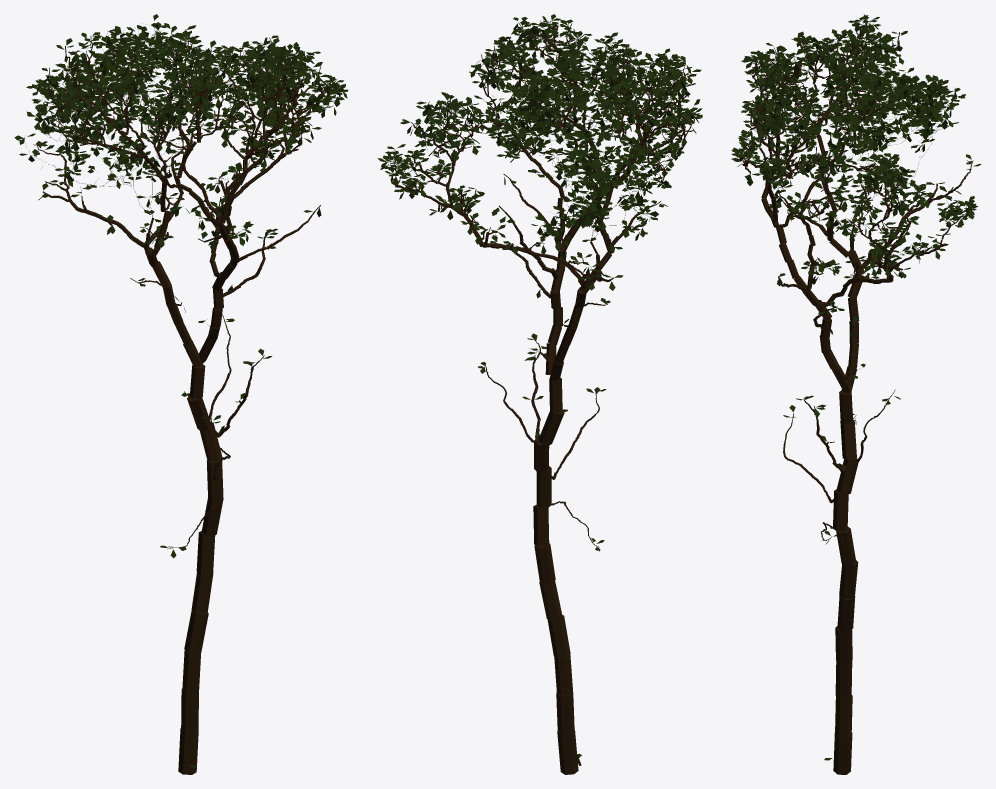
Rendered from tree_19.obj.
The picture shows the model from 3 angles, left to right: view 1: azimuth 30°, elevation 25°; view 2: azimuth 150°, elevation 25°; view 3: azimuth 270°, elevation 25°; orthographic projection. The views are drawn at different scales.
Parts seen in each view (by area): view 1: Leaves, TrunkAndBranches; view 2: Leaves, TrunkAndBranches; view 3: Leaves, TrunkAndBranches.
Boxes of the visible parts, x1,y1,x2,y2 form: Leaves: (14, 14, 348, 767); TrunkAndBranches: (24, 25, 343, 774); Leaves: (377, 14, 702, 757); TrunkAndBranches: (388, 20, 694, 774); Leaves: (731, 15, 981, 760); TrunkAndBranches: (736, 14, 973, 774).
Size of the model in its own units: 8.36 by 21.66 by 6.86.
